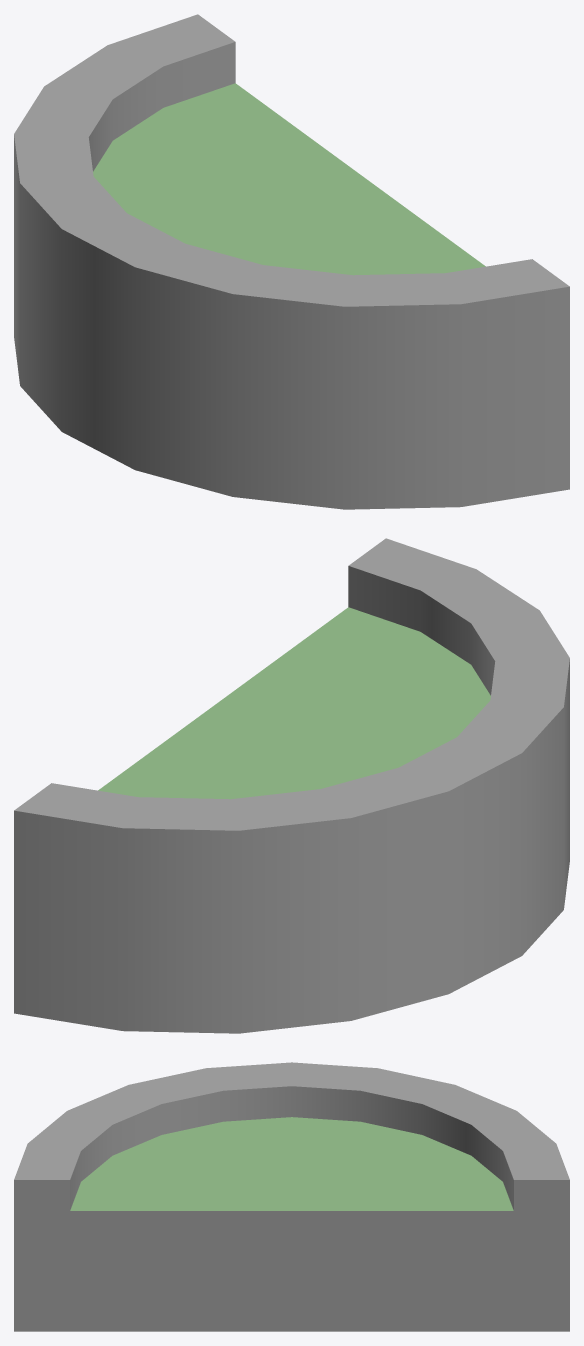
File: MedianCap.fbx
The picture shows the model from 3 angles, top to bottom: view 1: azimuth 30°, elevation 25°; view 2: azimuth 150°, elevation 25°; view 3: azimuth 270°, elevation 25°; orthographic projection. The views are drawn at different scales.
Parts seen in each view (by area): view 1: polySurface14; view 2: polySurface14; view 3: polySurface14.
Part boxes in pixels (bbox=[...]): polySurface14: bbox=[14, 14, 569, 509]; polySurface14: bbox=[14, 538, 569, 1033]; polySurface14: bbox=[14, 1062, 569, 1331].
Size of the model in its own units: 1 by 0.6018 by 2.
